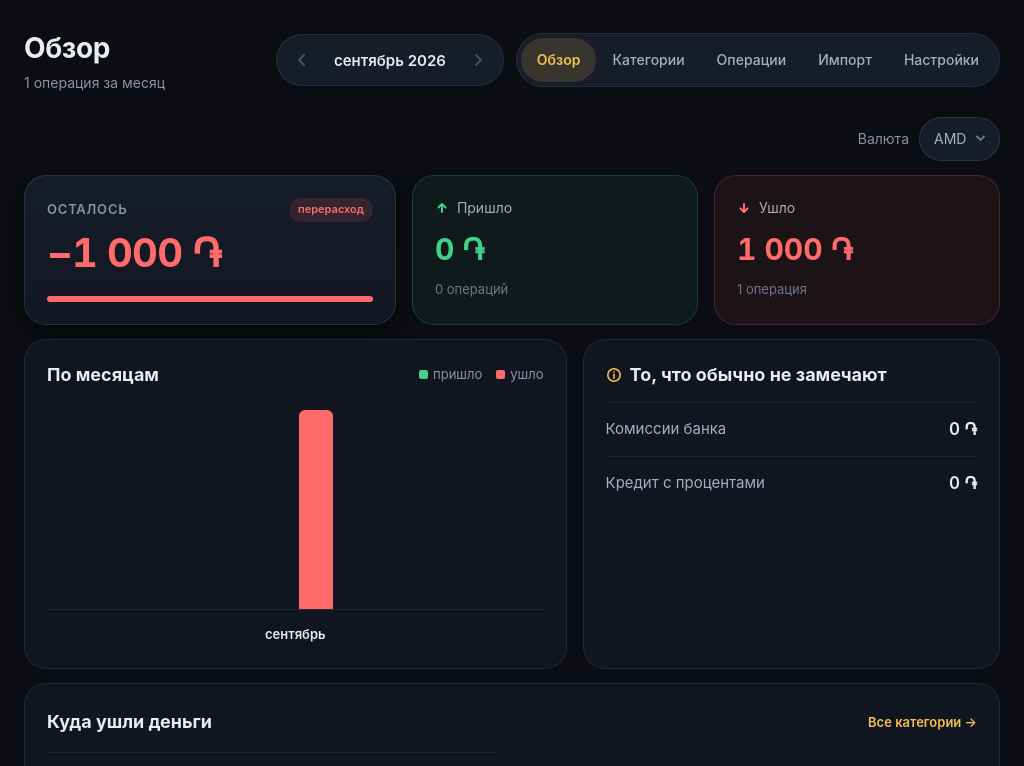
Test: App currency switcher › появляется при нескольких валютах и переключает статистику обзора без смешивания сумм
This screenshot has width=1024, height=766.
Expected: the text with test id "total-expense" is shown, x1=737 y1=231 x2=853 y2=267
Step 1. Select "USD" in the dropdown named "Валюта" → (960, 139), box x1=919 y1=117 x2=1000 y2=161
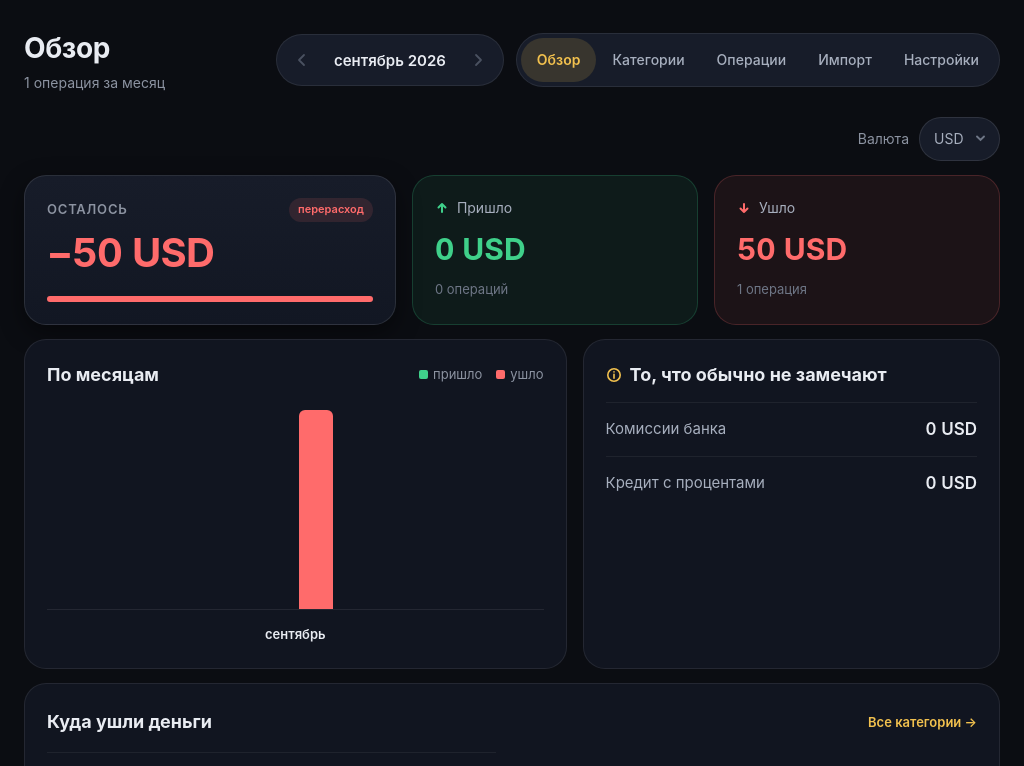
Expected: the text with test id "total-expense" reads "50 USD", x1=737 y1=231 x2=847 y2=267
